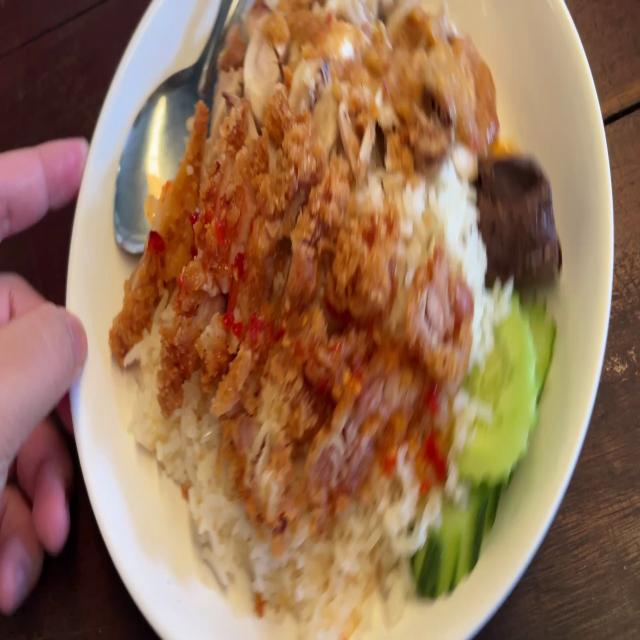boiled_chicken: (226, 0, 482, 160)
boiled_chicken_blood_jelly: (473, 154, 567, 288)
chicken_rice: (107, 3, 565, 638)
cucumber: (431, 299, 543, 573)
fried_chicken: (132, 116, 429, 519)
